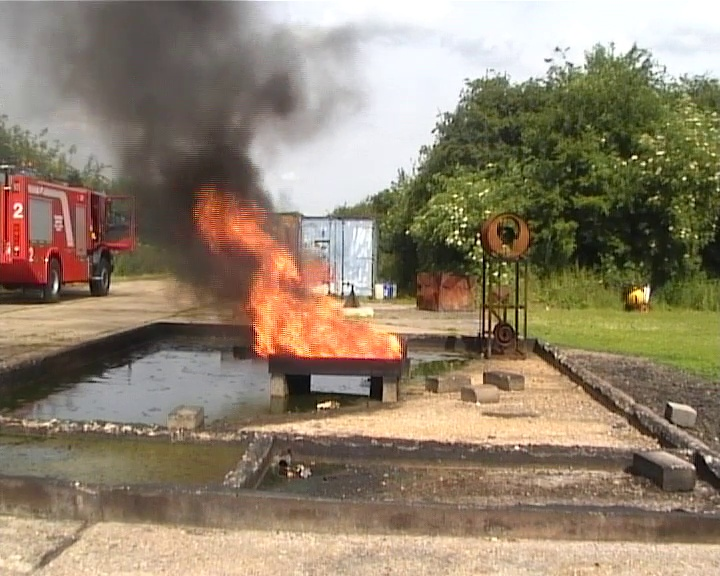fire: (196, 190, 398, 355)
